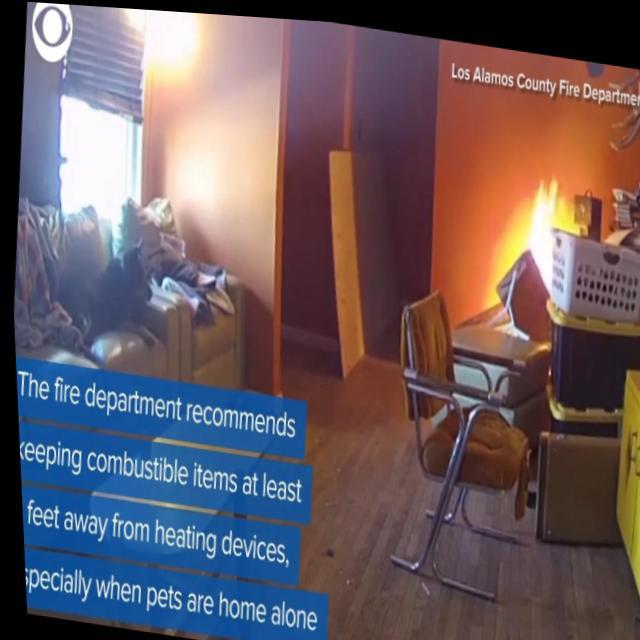fire: (515, 164, 585, 299)
